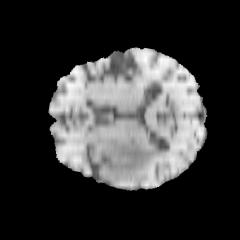glioma: (97, 135, 162, 181)
